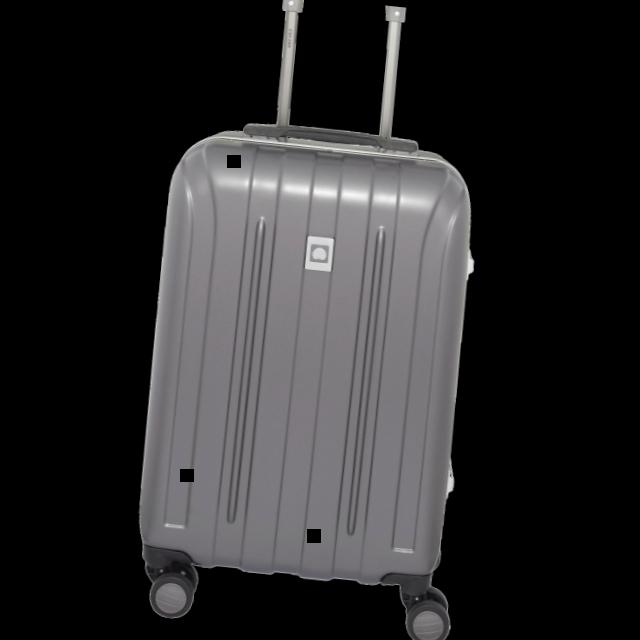luggage: (112, 101, 501, 640)
